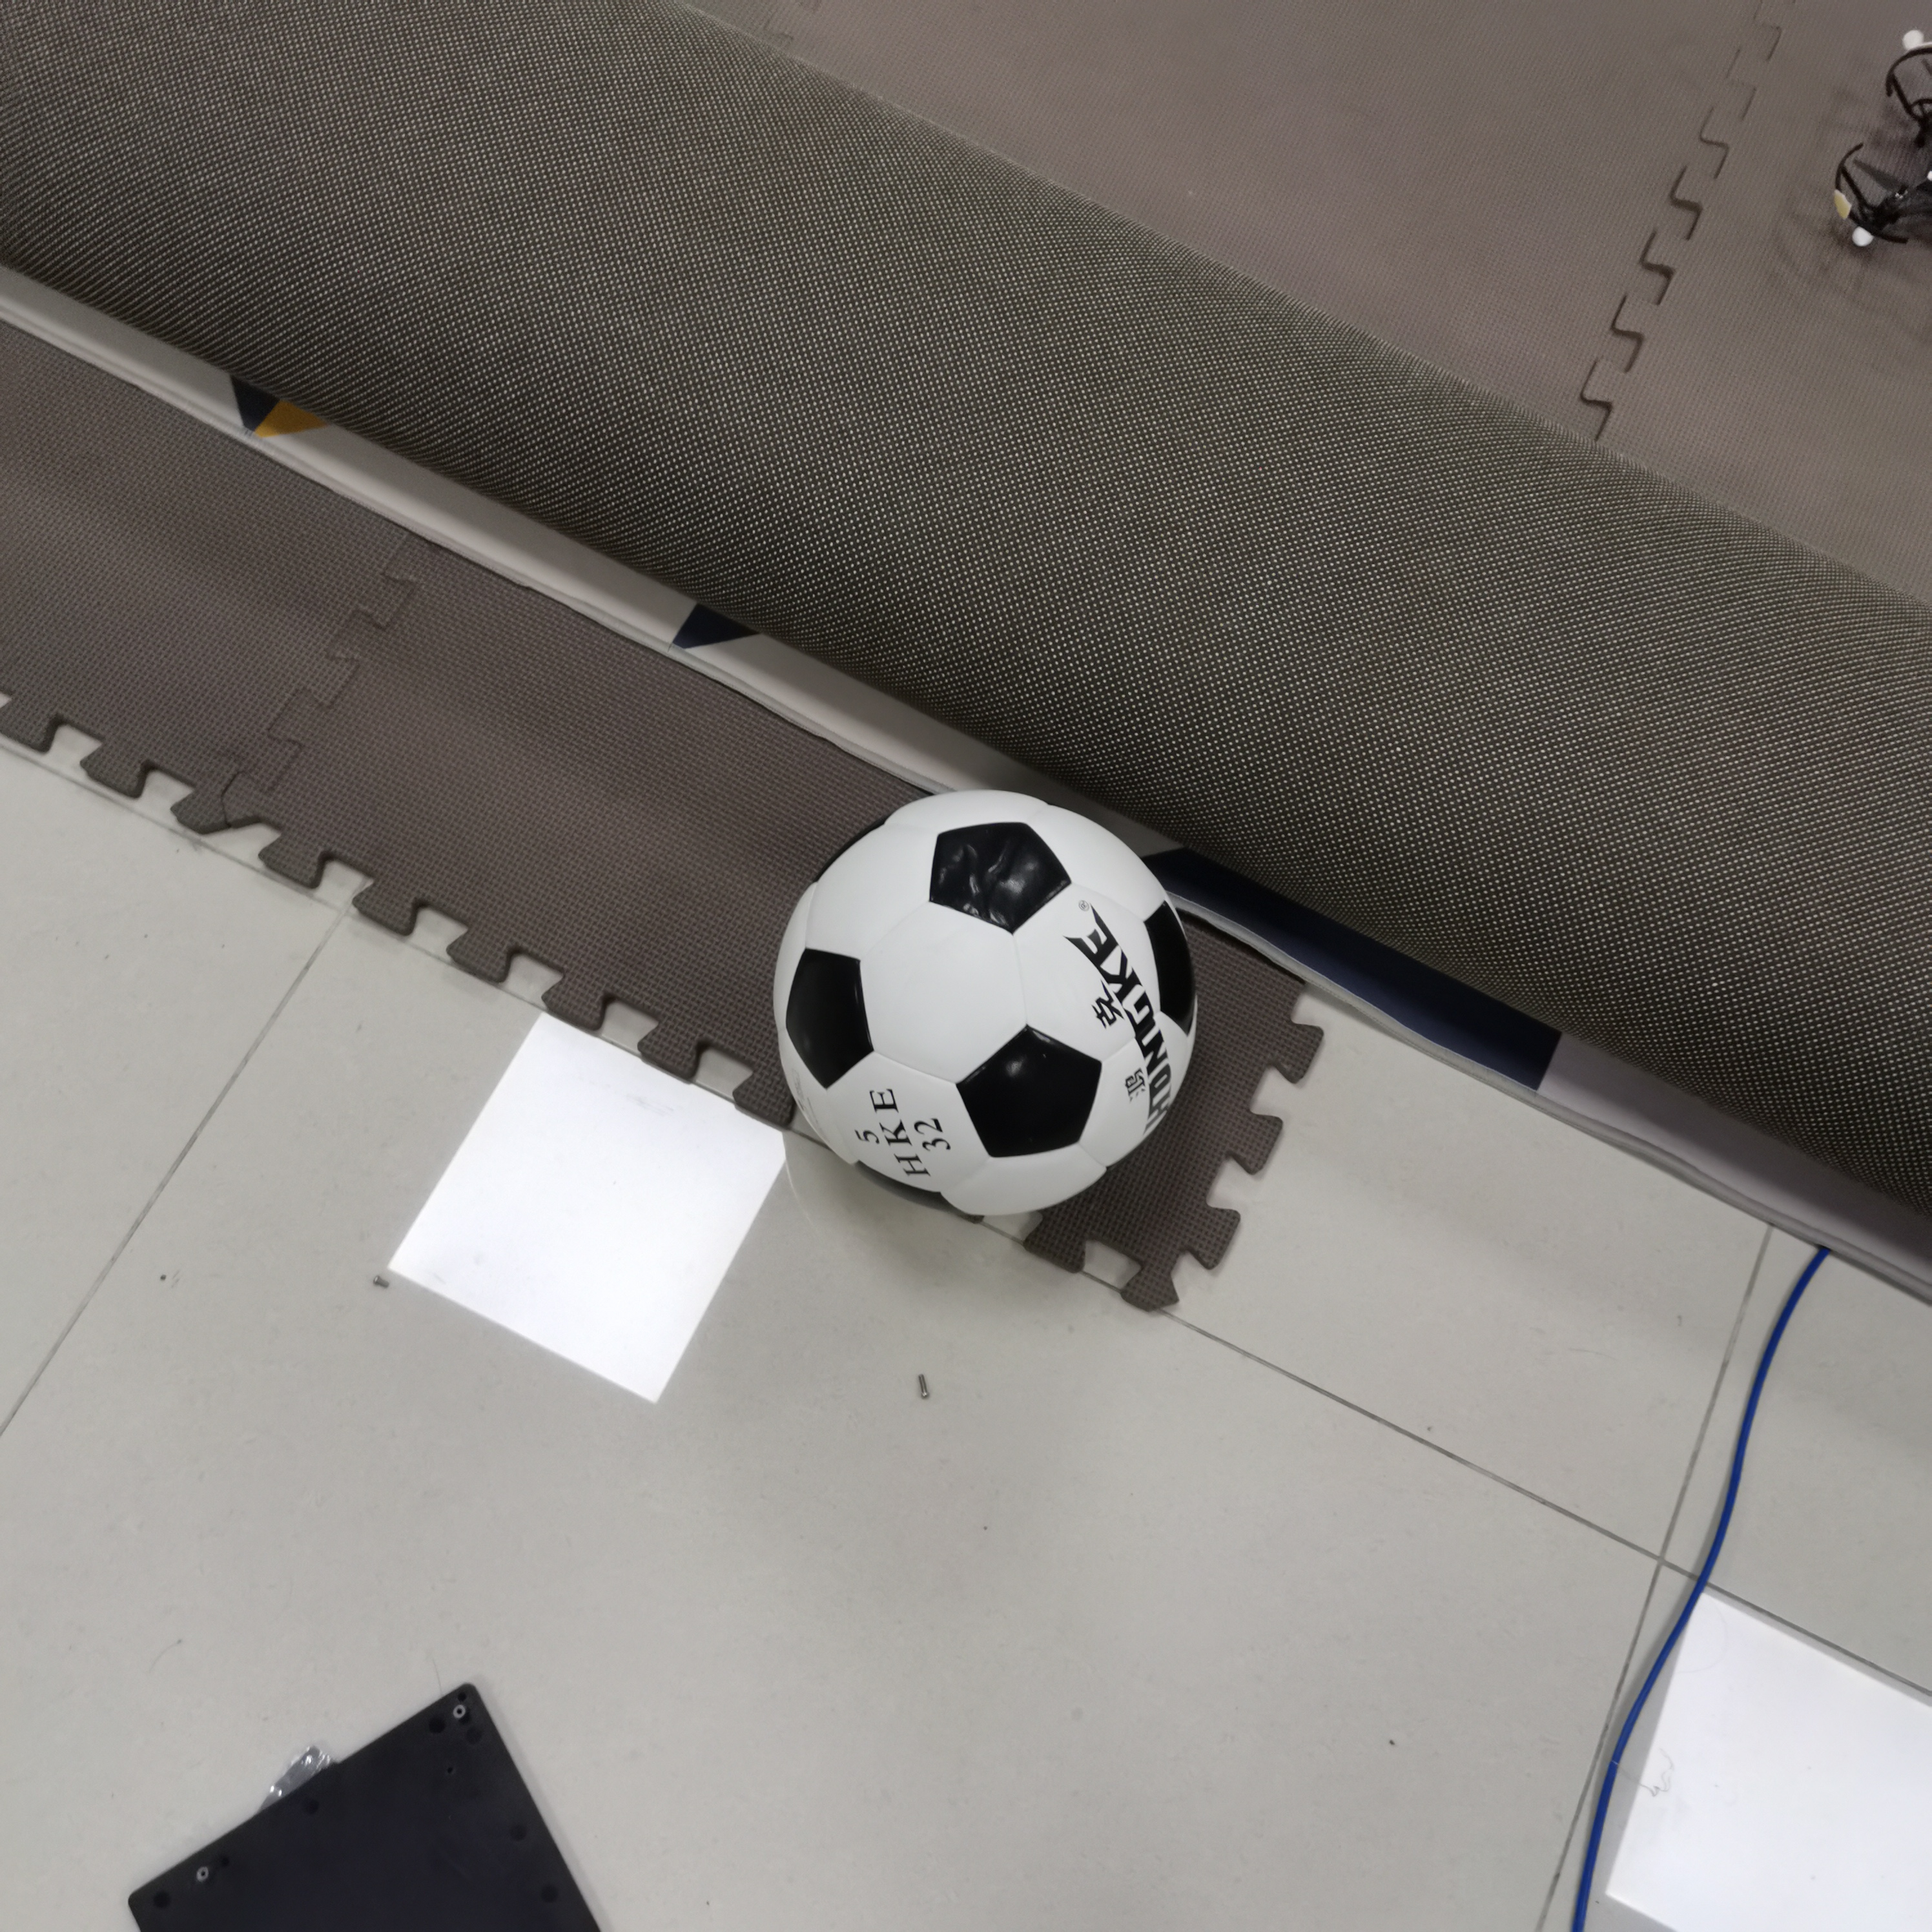football: (768, 784, 1200, 1215)
